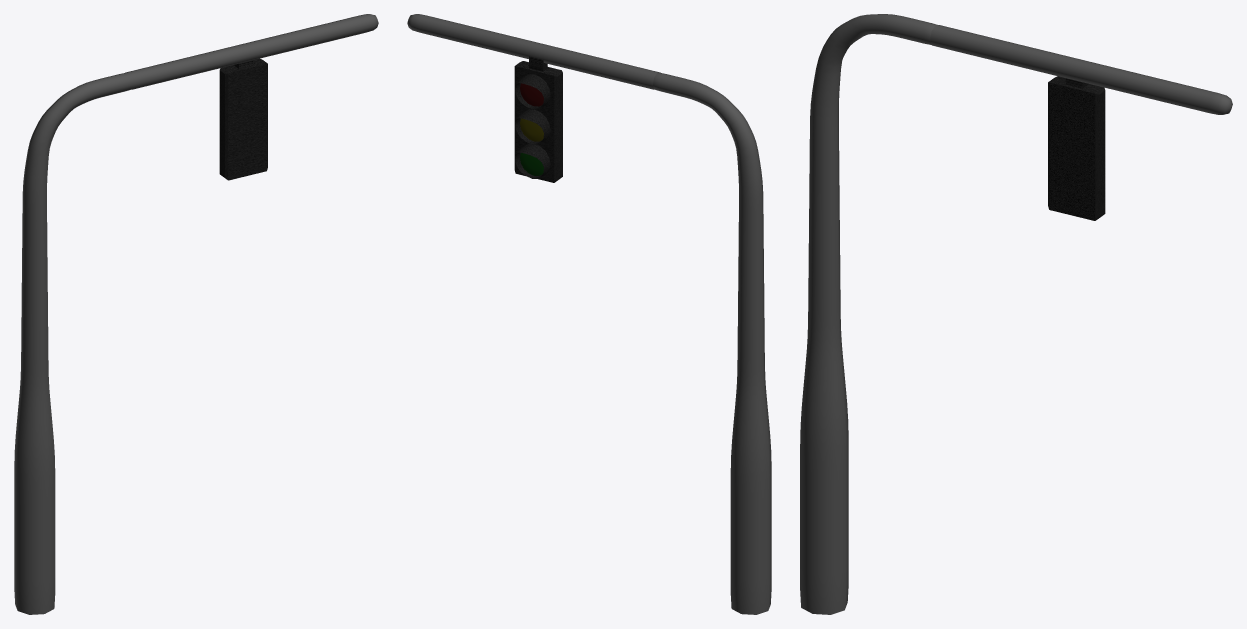
File: TrafficLight.glb
3 renders of one model, left to right at view 1: azimuth 30°, elevation 25°; view 2: azimuth 150°, elevation 25°; view 3: azimuth 330°, elevation 25°, orthographic. The views are drawn at different scales.
Parts seen in each view (by area): view 1: TrafficLightPole, Panel, TrafficLightPoleExtend; view 2: TrafficLightPole, Panel, TrafficLightPoleExtend; view 3: TrafficLightPole, Panel, TrafficLightPoleExtend.
Boxes of the visible parts, box(x1,y1,x2,y2) form: TrafficLightPole: box(14, 72, 132, 614); Panel: box(219, 58, 267, 180); TrafficLightPoleExtend: box(125, 14, 378, 89); TrafficLightPole: box(653, 72, 771, 614); Panel: box(514, 56, 562, 182); TrafficLightPoleExtend: box(407, 14, 660, 89); TrafficLightPole: box(800, 14, 937, 614); Panel: box(1048, 76, 1105, 220); TrafficLightPoleExtend: box(930, 25, 1232, 114).
Size of the model in its own units: 3.85 by 5.21 by 0.4992.
Materials: 2 (1 with a texture image).
